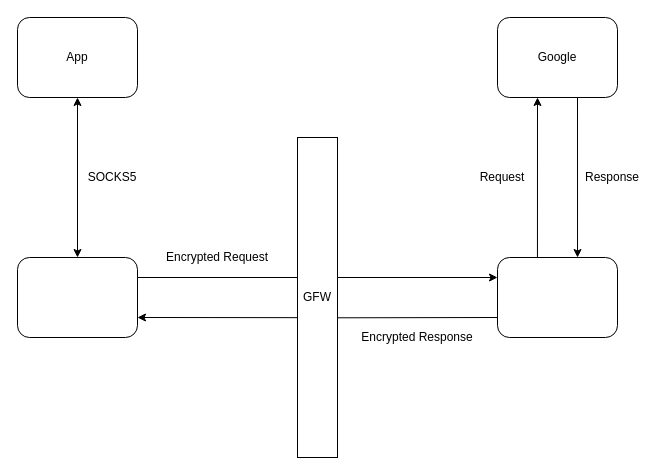
This 665x475 diagram has some shape labels left out. The centre of each missing label's shape, as x and y in pixels:
"Shadowsocks4j Local" goes at point (77, 297).
"Shadowsocks4j Server" goes at point (557, 297).
